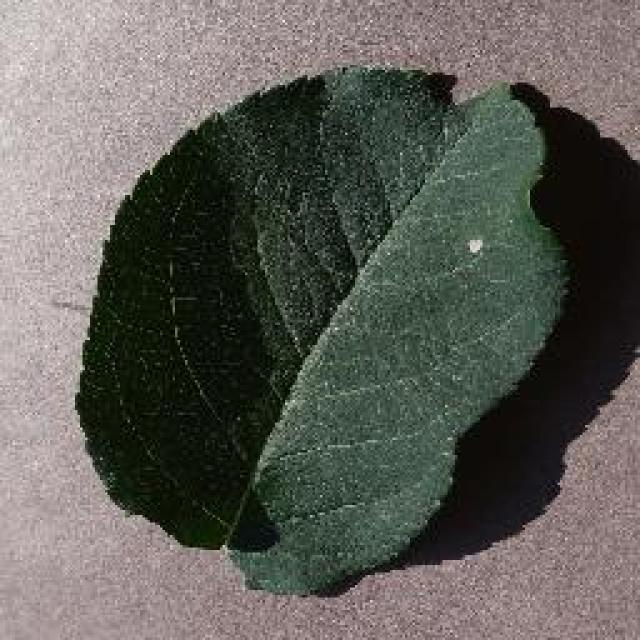apple healthy: (72, 63, 572, 595)
